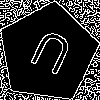U: (23, 28, 76, 85)
